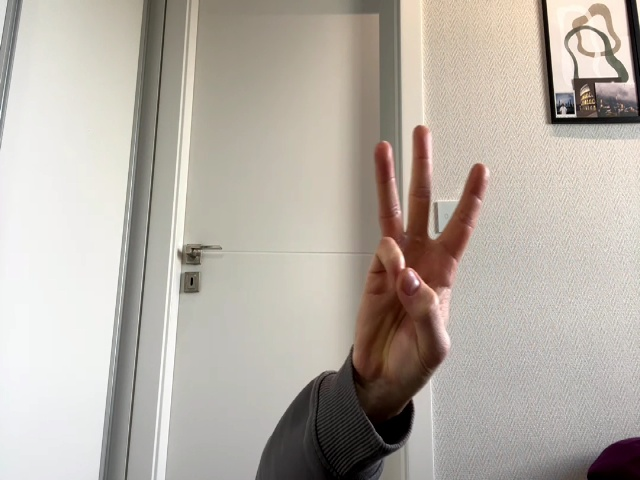W: (355, 126, 488, 386)
